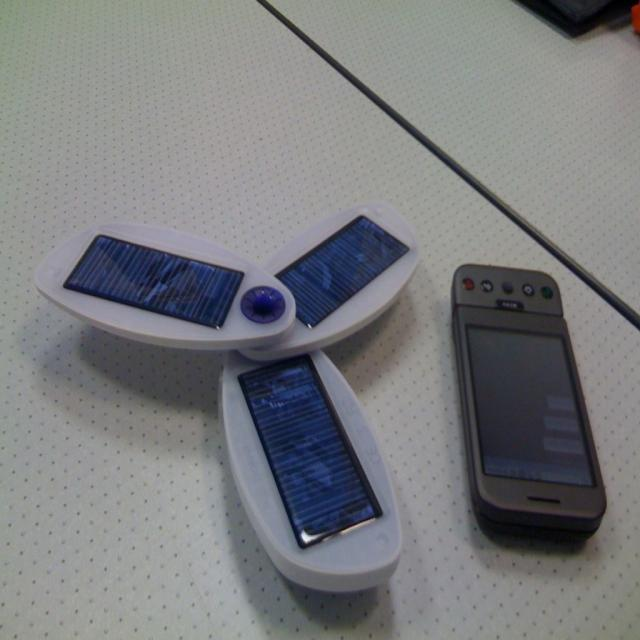Mobile-phone: (441, 268, 611, 548)
